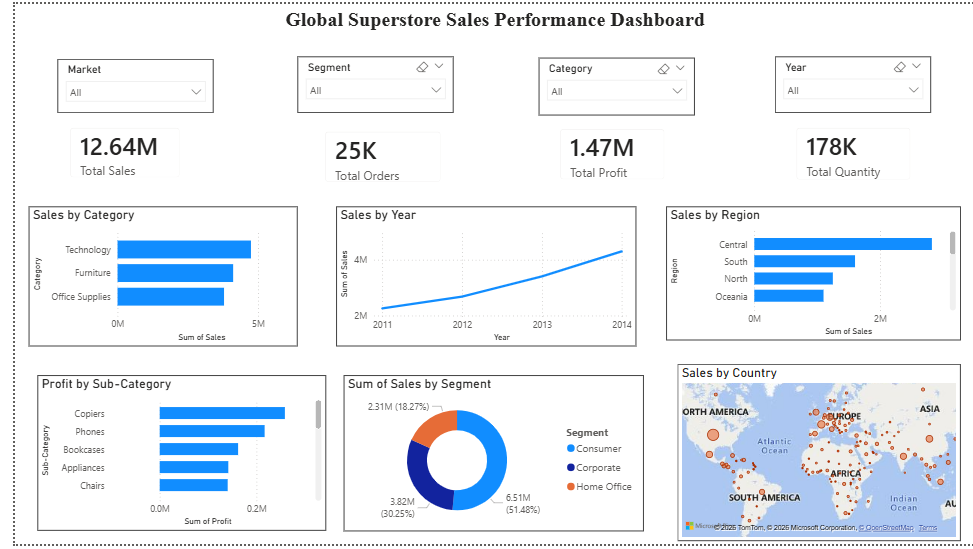

The page's visual inventory and layout, read from the dashboard file:
{"tool":"powerbi","page":{"name":"Page 1","canvas":[1280,720],"ordinal":0},"visuals":[{"type":"cardVisual","fields":{"Data":["Orders.Total Sales"]},"box":[56.7,148.3,180,100],"z":0},{"type":"cardVisual","fields":{"Data":["Orders.Total Orders"]},"box":[396.7,153.3,188.3,101.7],"z":1000},{"type":"cardVisual","fields":{"Data":["Orders.Total Profit"]},"box":[710,150,173.3,101.7],"z":2000},{"type":"cardVisual","fields":{"Data":["Orders.Total Quantity"]},"box":[1025,148.3,186.7,103.3],"z":3000},{"type":"clusteredBarChart","title":"Sales by Category","fields":{"Y":["Sum(Orders.Sales)"],"Category":["Orders.Category"]},"box":[17.5,270,358.8,186.2],"z":4000},{"type":"lineChart","title":"Sales by Year","fields":{"Category":["Orders.Order Date.Variation.Date Hierarchy.Year","Orders.Order Date.Variation.Date Hierarchy.Quarter","Orders.Order Date.Variation.Date Hierarchy.Month","Orders.Order Date.Variation.Date Hierarchy.Day"],"Y":["Sum(Orders.Sales)"]},"box":[428.3,270,400,186.7],"z":5000},{"type":"clusteredBarChart","title":"Profit by Sub-Category","fields":{"Category":["Orders.Sub-Category"],"Y":["Sum(Orders.Profit)"]},"box":[30,495,385,207.5],"z":6000},{"type":"clusteredBarChart","title":"Sales by Region","fields":{"Category":["Orders.Region"],"Y":["Sum(Orders.Sales)"]},"box":[867.5,270,392.5,178.8],"z":7000},{"type":"map","title":"Sales by Country","fields":{"Category":["Orders.Country"],"Size":["Sum(Orders.Sales)"]},"box":[882.5,480,377.5,236.2],"z":8000},{"type":"textbox","box":[0,0,1280,78.3],"z":9000},{"type":"slicer","fields":{"Values":["Orders.Segment"]},"box":[376.7,70,208.3,75],"z":10000},{"type":"slicer","fields":{"Values":["Orders.Category"]},"box":[698.3,71.7,208.3,76.7],"z":11000},{"type":"slicer","fields":{"Values":["Orders.Market"]},"box":[56.7,73.3,208.3,71.7],"z":12000},{"type":"slicer","fields":{"Values":["Orders.Order Date.Variation.Date Hierarchy.Year"]},"box":[1013.3,70,208.3,75],"z":13000},{"type":"donutChart","fields":{"Y":["Sum(Orders.Sales)"],"Category":["Orders.Segment"]},"box":[438.3,495,400,208.3],"z":13001}]}

Visuals, with their boxes in screenshot pixels (x1, y1, x2, y2), scaled from the page's 1280x720 canvas onto the 973x549 screenshot:
cardVisual - Orders.Total Sales: (left=43, top=113, right=180, bottom=189)
cardVisual - Orders.Total Orders: (left=302, top=117, right=445, bottom=194)
cardVisual - Orders.Total Profit: (left=540, top=114, right=671, bottom=192)
cardVisual - Orders.Total Quantity: (left=779, top=113, right=921, bottom=192)
"Sales by Category" clusteredBarChart: (left=13, top=206, right=286, bottom=348)
"Sales by Year" lineChart: (left=326, top=206, right=630, bottom=348)
"Profit by Sub-Category" clusteredBarChart: (left=23, top=377, right=315, bottom=536)
"Sales by Region" clusteredBarChart: (left=659, top=206, right=958, bottom=342)
"Sales by Country" map: (left=671, top=366, right=958, bottom=546)
textbox: (left=0, top=0, right=972, bottom=60)
slicer - Orders.Segment: (left=286, top=53, right=445, bottom=111)
slicer - Orders.Category: (left=531, top=55, right=689, bottom=113)
slicer - Orders.Market: (left=43, top=56, right=201, bottom=111)
slicer - Orders.Order Date.Variation.Date Hierarchy.Year: (left=770, top=53, right=929, bottom=111)
donutChart - Sum(Orders.Sales) x Orders.Segment: (left=333, top=377, right=637, bottom=536)
